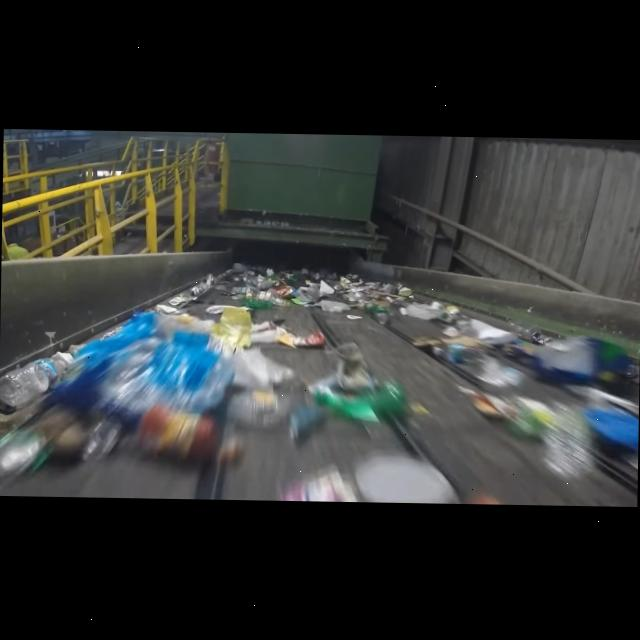trash: (312, 376, 406, 418), (0, 355, 67, 408), (243, 296, 274, 310)
